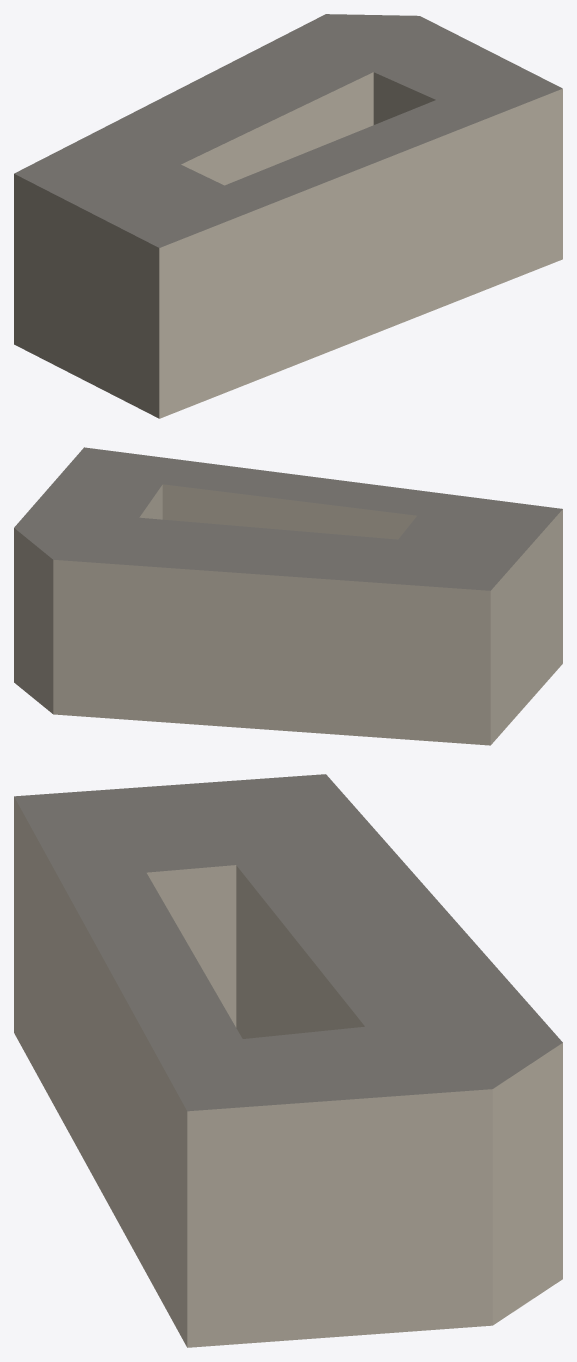
3 views of the same model, one above another, from view 1: azimuth 30°, elevation 25°; view 2: azimuth 150°, elevation 25°; view 3: azimuth 270°, elevation 25° (orthographic). The views are drawn at different scales.
Visible parts, largest first — view 1: HP-r16247354; view 2: HP-r16247354; view 3: HP-r16247354.
Boxes of the visible parts, bbox=[...] form: HP-r16247354: bbox=[14, 14, 562, 418]; HP-r16247354: bbox=[14, 447, 562, 745]; HP-r16247354: bbox=[14, 774, 562, 1347].
Size of the model in its own units: 55.03 by 18 by 37.86.
